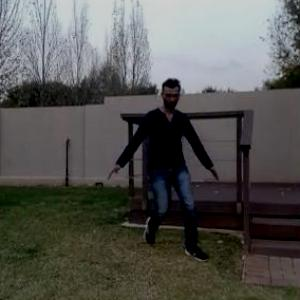land: (110, 75, 221, 266)
